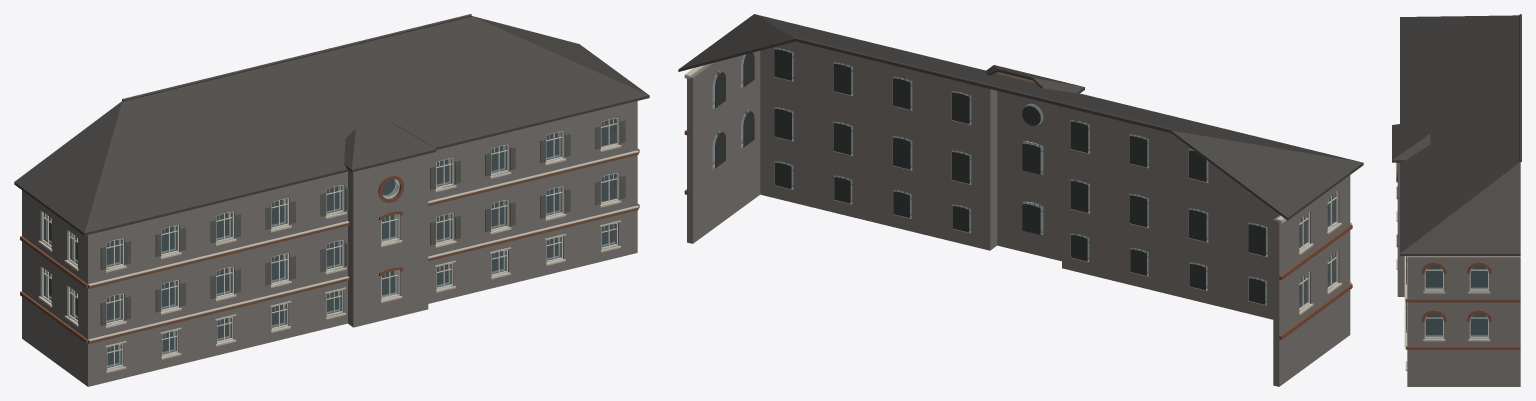
The model's file is full-source.glb.
3 views of the same model, side by side, from view 1: azimuth 30°, elevation 25°; view 2: azimuth 150°, elevation 25°; view 3: azimuth 270°, elevation 25° (orthographic). The views are drawn at different scales.
Parts seen in each view (by area): view 1: 圣约翰大学思孟堂43号楼临河窗墙; view 2: 圣约翰大学思孟堂43号楼临河窗墙; view 3: 圣约翰大学思孟堂43号楼临河窗墙.
Boxes of the visible parts, x1,y1,x2,y2 form: 圣约翰大学思孟堂43号楼临河窗墙: (14,14,649,386); 圣约翰大学思孟堂43号楼临河窗墙: (678,14,1363,386); 圣约翰大学思孟堂43号楼临河窗墙: (1392,14,1521,386).
Size of the model in its own units: 38.73 by 14.08 by 8.96.
